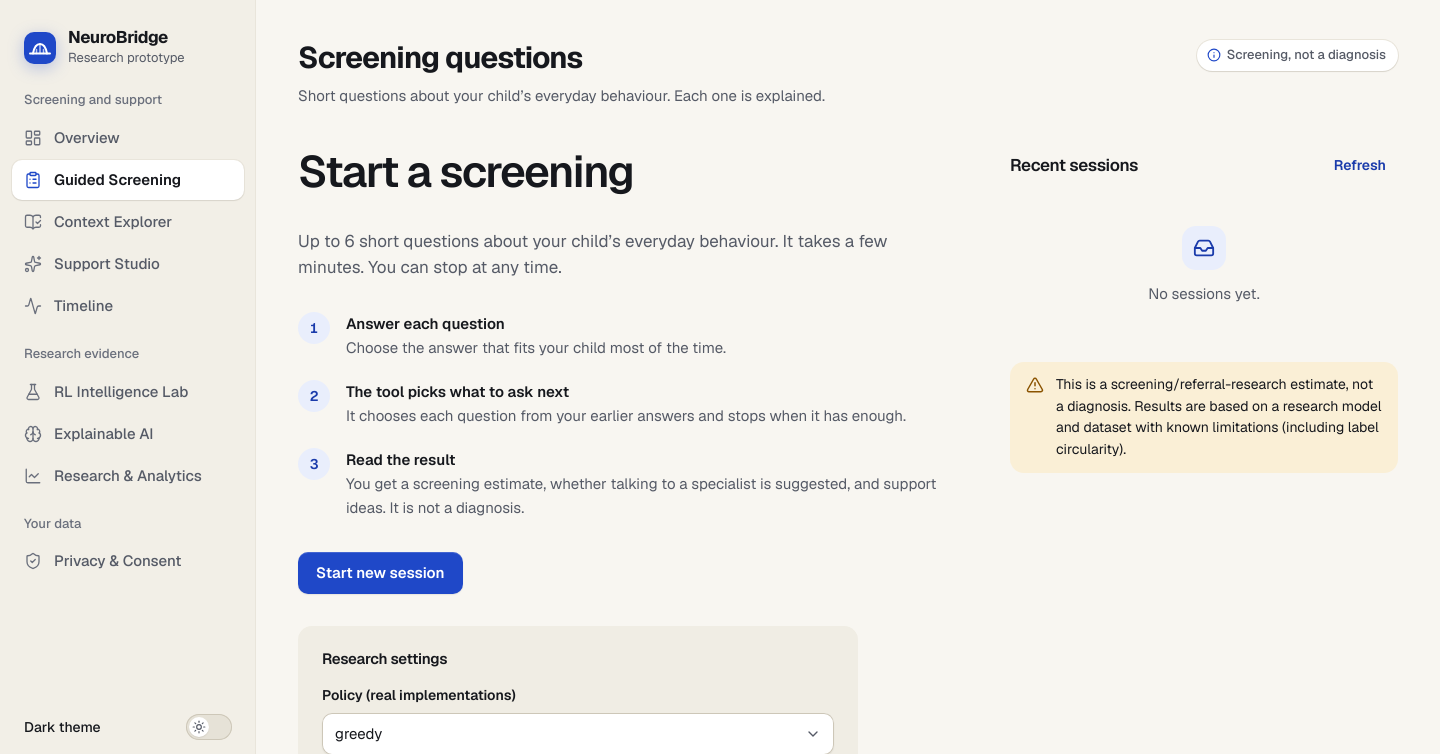
guided screening › a double click submits the answer once
Click the button "Start new session". click: x=380, y=573
box: [298, 552, 462, 594]
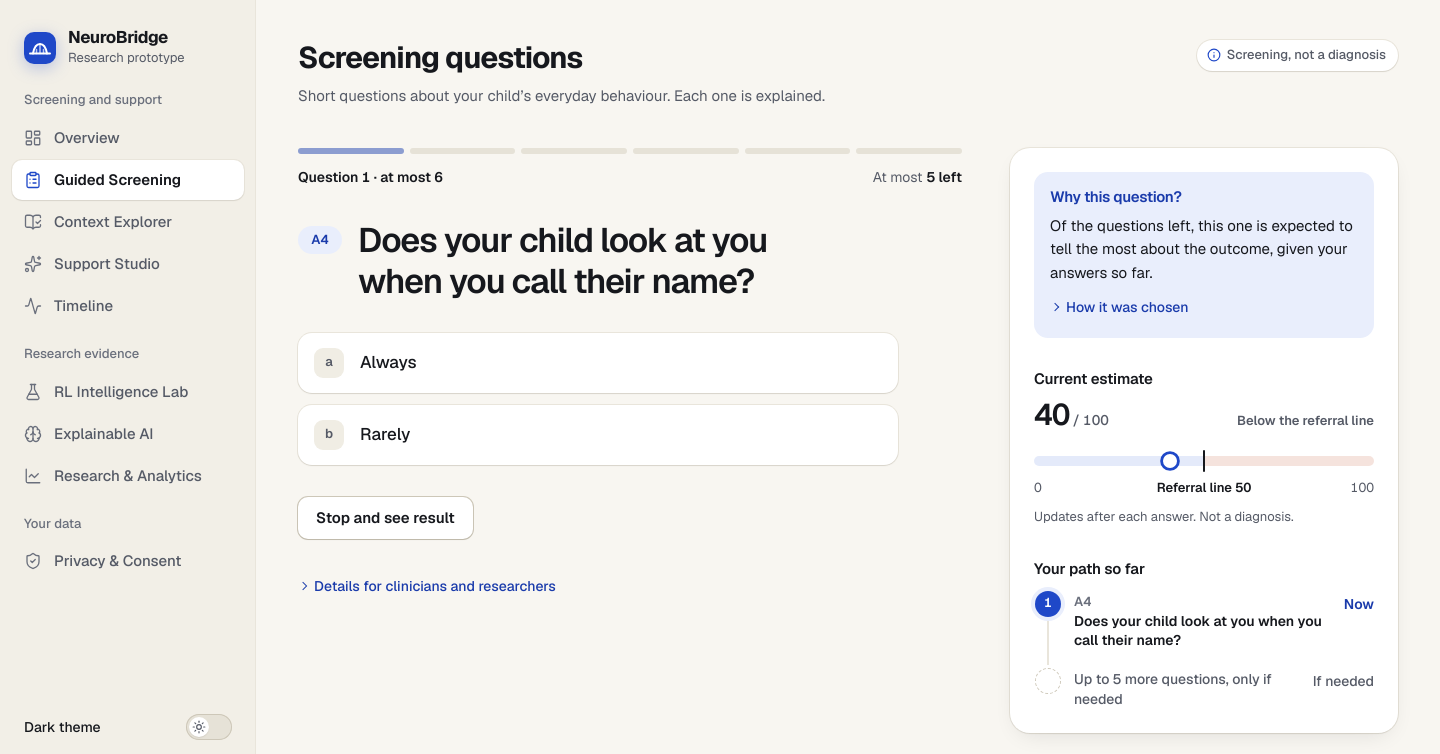
Double-click the button "a Always" at x=388, y=362, box [298, 333, 898, 393]
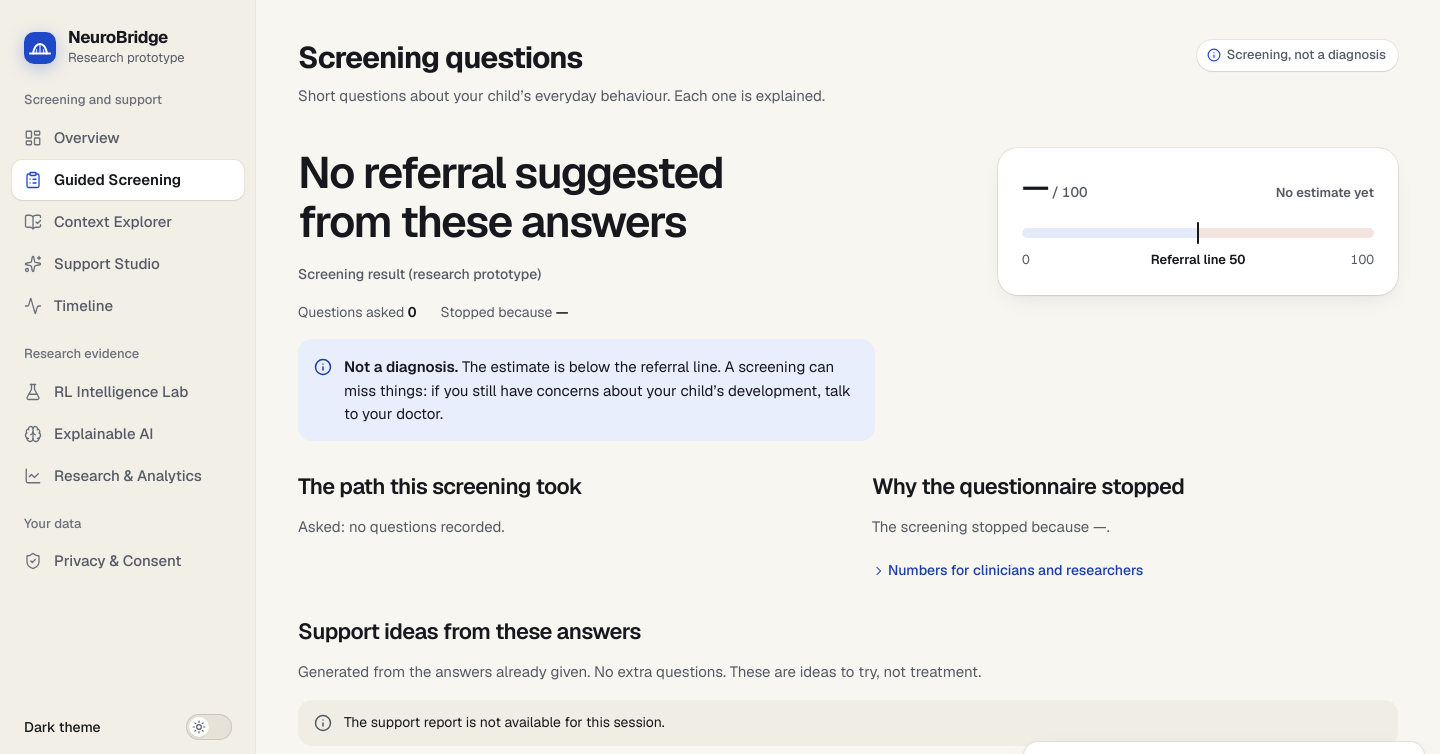
Result: the text "Screening result (research prototype)" is shown at [298, 264, 541, 282]
